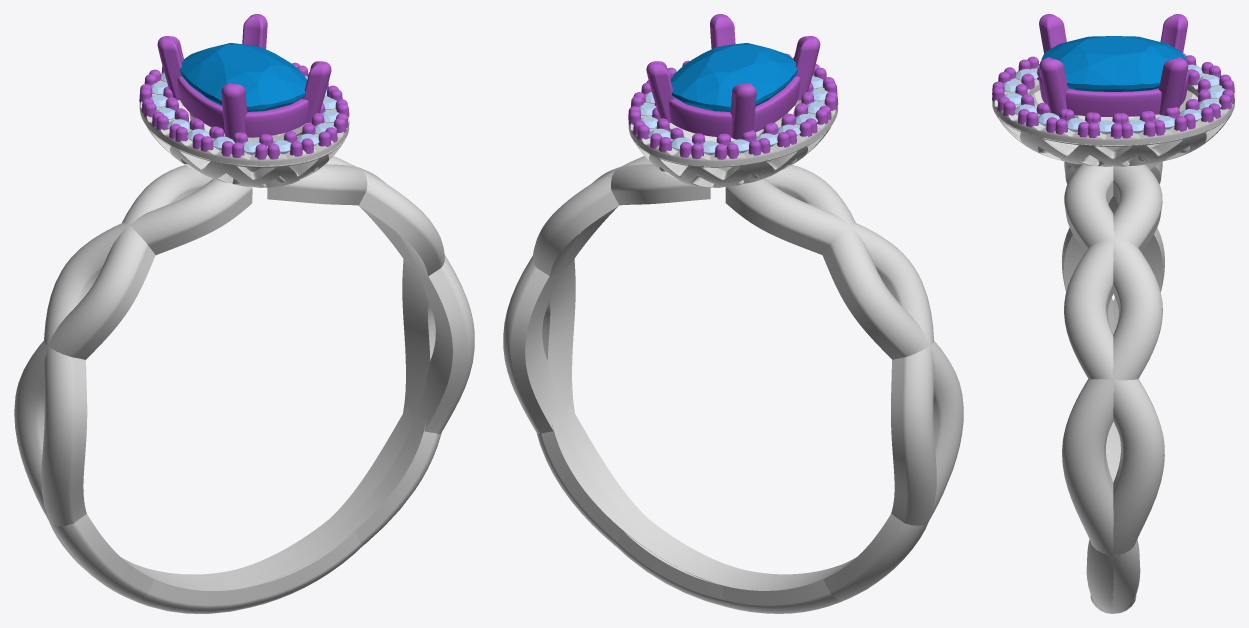
3 views of the same model, side by side, from view 1: azimuth 30°, elevation 25°; view 2: azimuth 150°, elevation 25°; view 3: azimuth 270°, elevation 25° (orthographic).
Visible parts, largest first — view 1: anillo canasta p ovalada 5 1-2 y diam.3dm, Diamond_Cushion, Head Prong (×4), Head Rail, COLOR= MATERIAL=; view 2: anillo canasta p ovalada 5 1-2 y diam.3dm, Diamond_Cushion, Head Prong (×4), Head Rail, COLOR= MATERIAL=; view 3: anillo canasta p ovalada 5 1-2 y diam.3dm, Diamond_Cushion, Head Prong (×4), COLOR= MATERIAL=, Head Rail.
Boxes of the visible parts, x1,y1,x2,y2 form: anillo canasta p ovalada 5 1-2 y diam.3dm: (14,72,474,613); Diamond_Cushion: (180,43,306,111); Head Prong (×4): (157,14,331,139); Head Rail: (177,76,308,137); COLOR= MATERIAL=: (147,113,348,187); anillo canasta p ovalada 5 1-2 y diam.3dm: (503,75,963,613); Diamond_Cushion: (670,43,797,111); Head Prong (×4): (646,14,820,139); Head Rail: (669,76,800,137); COLOR= MATERIAL=: (630,100,829,187); anillo canasta p ovalada 5 1-2 y diam.3dm: (992,68,1234,613); Diamond_Cushion: (1041,36,1185,91); Head Prong (×4): (1039,14,1188,115); COLOR= MATERIAL=: (992,90,1231,166); Head Rail: (1038,68,1188,116).
Size of the model in its own units: 2.39 by 2.98 by 1.19.
